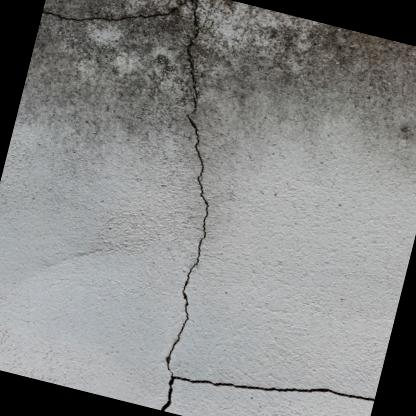crack: (158, 0, 375, 412), (43, 0, 188, 21)
